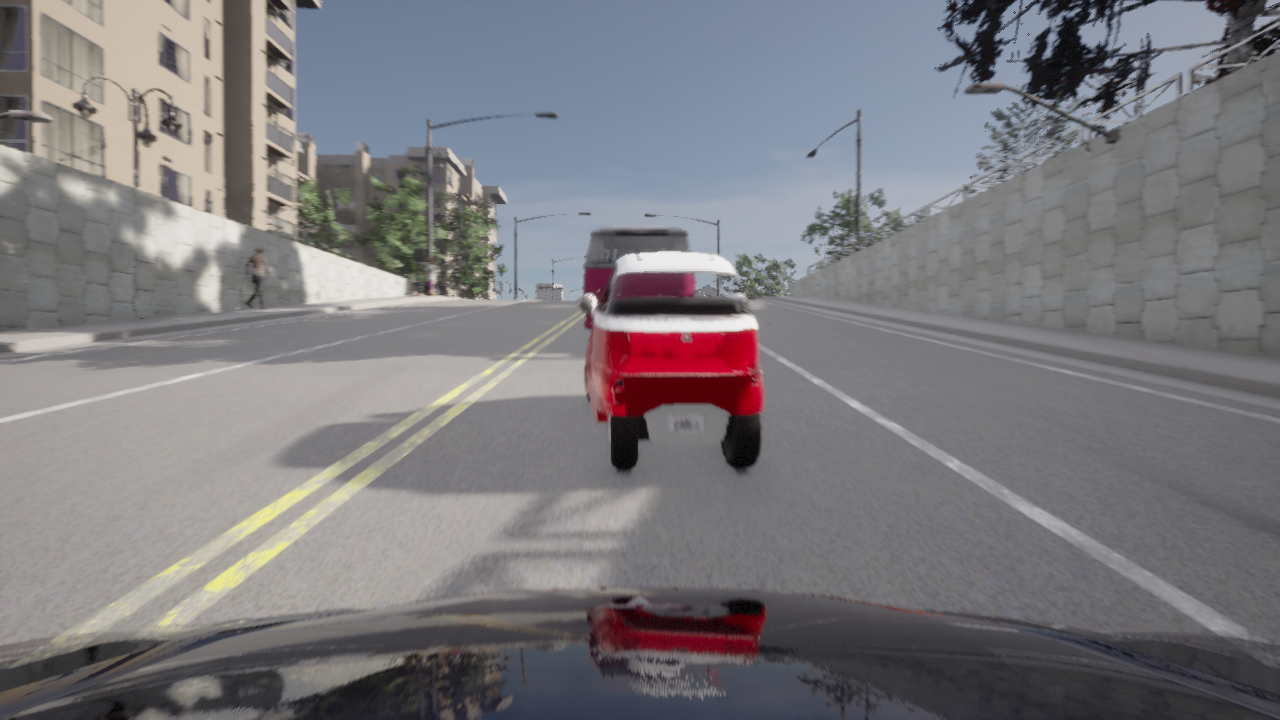cyclist: (0, 588, 1279, 719), (579, 252, 762, 469), (584, 226, 690, 329)
pedestrian: (245, 247, 271, 310), (422, 259, 438, 296), (761, 294, 764, 296)
